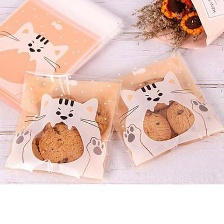snack: (88, 44, 224, 172), (0, 65, 127, 184)
